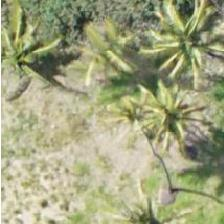Kelapa_Sawit: (69, 7, 159, 97), (124, 72, 214, 162), (124, 146, 214, 224), (153, 0, 224, 90), (0, 10, 58, 100)
